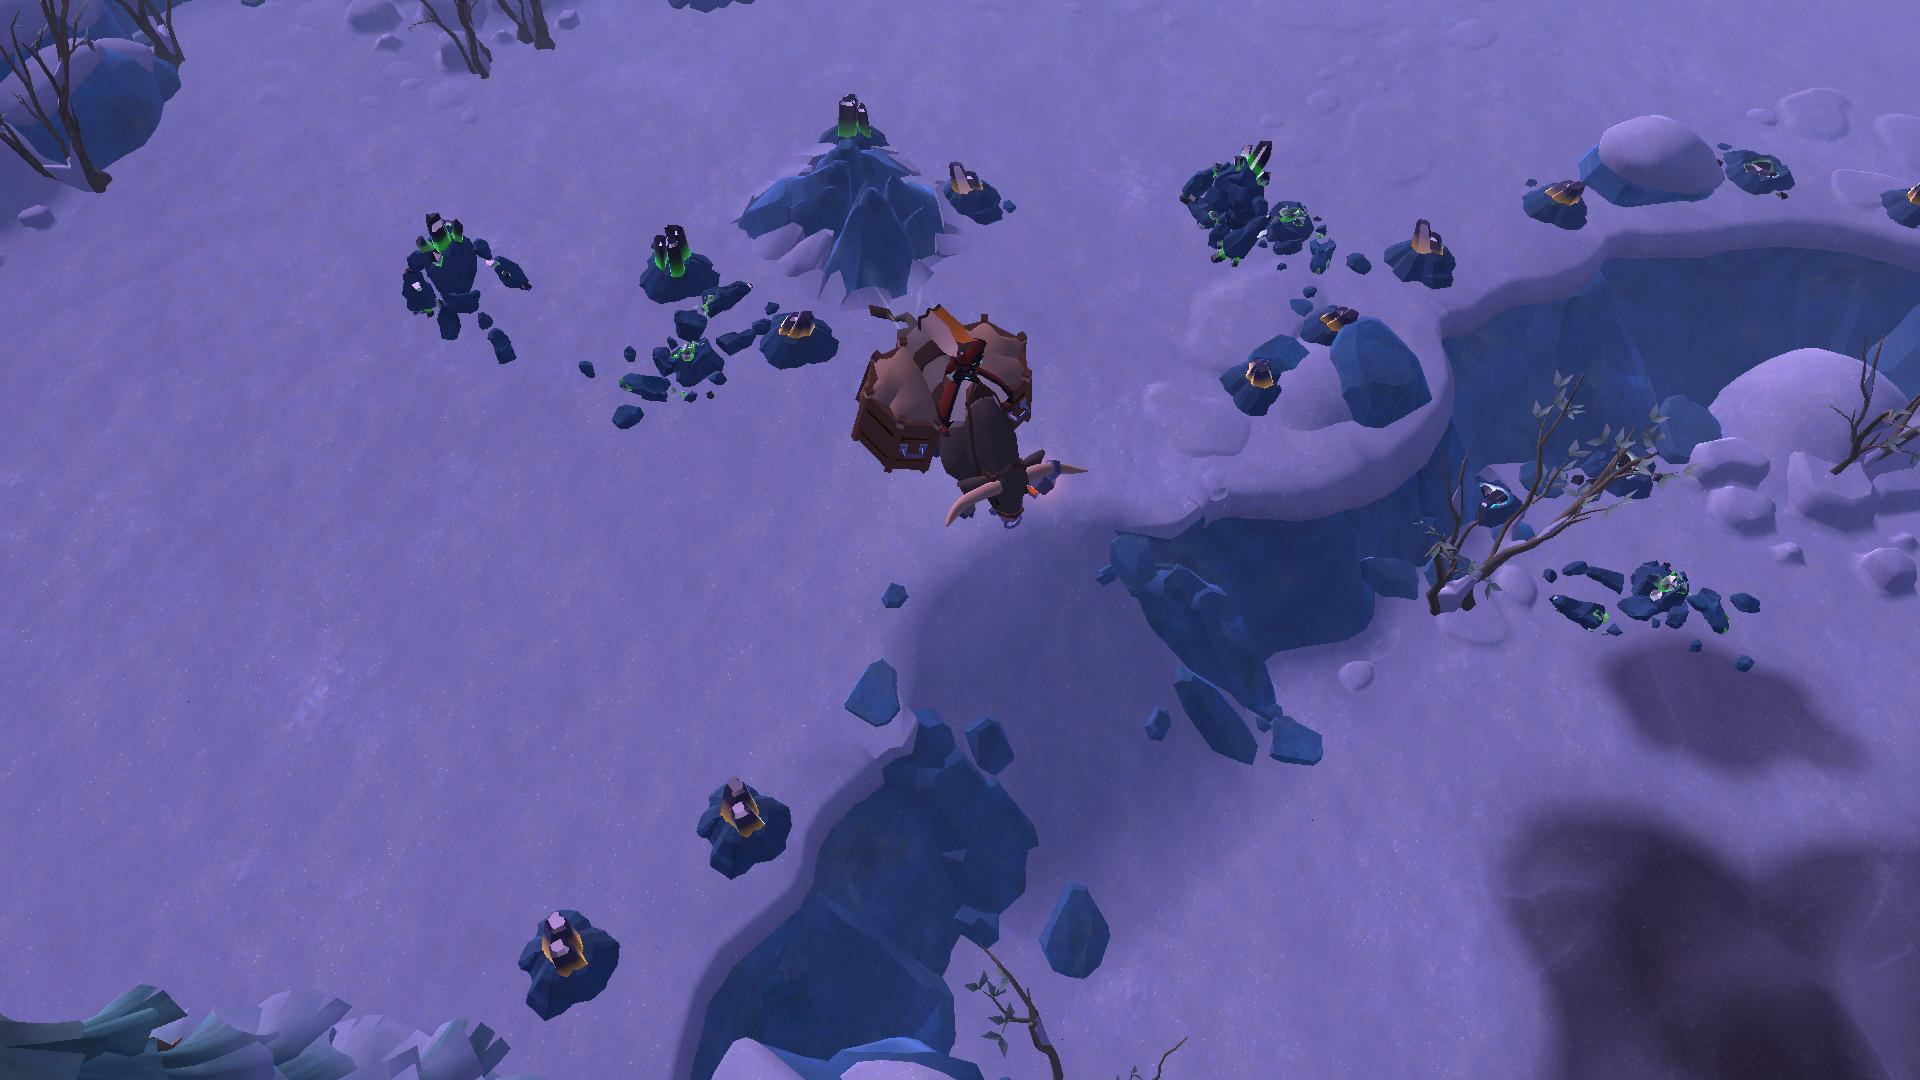ore_t3: (644, 215, 695, 277), (827, 86, 877, 145)
